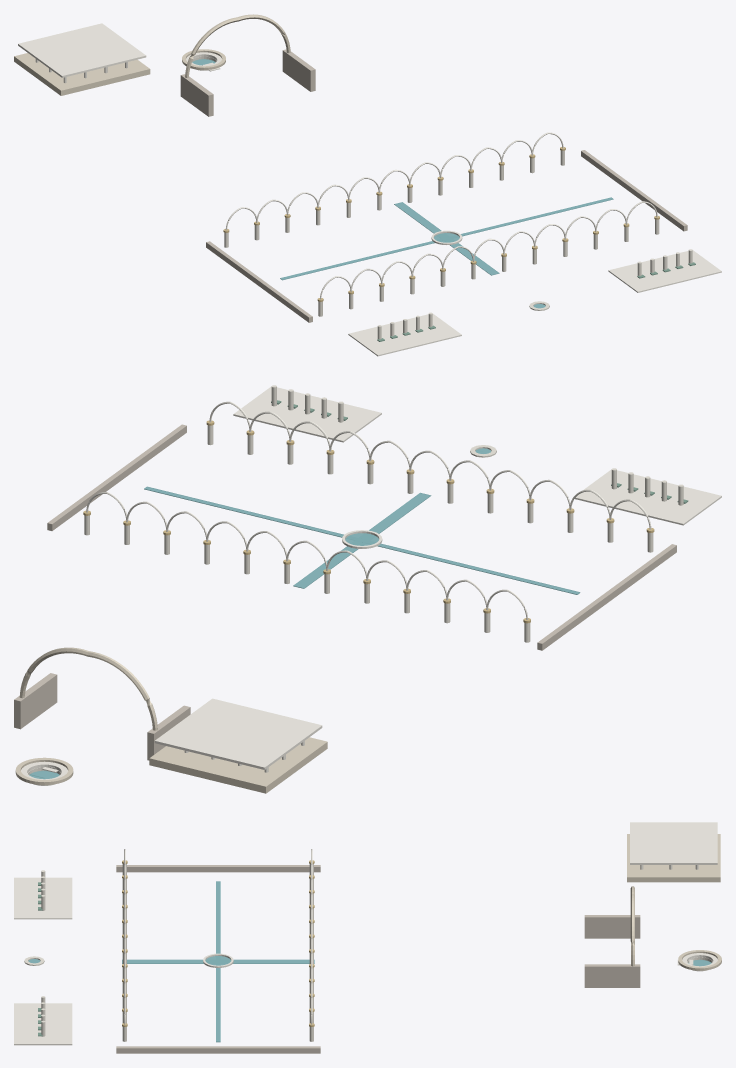
Rendered from 01_courts_water.glb.
3 views of the same model, one above another, from view 1: azimuth 30°, elevation 25°; view 2: azimuth 150°, elevation 25°; view 3: azimuth 270°, elevation 25° (orthographic). The views are drawn at different scales.
Parts seen in each view (by area): view 1: batch_pale, batch_aged, batch_ashlar, batch_marble, batch_water, batch_gold; view 2: batch_pale, batch_ashlar, batch_aged, batch_marble, batch_water, batch_gold; view 3: batch_pale, batch_aged, batch_ashlar, batch_water, batch_marble, batch_gold.
Boxes of the visible parts, x1,y1,x2,y2 form: batch_pale: (18,23,721,356); batch_aged: (180,49,687,322); batch_ashlar: (14,14,290,95); batch_marble: (192,56,692,339); batch_water: (192,59,613,308); batch_gold: (223,147,659,301); batch_pale: (21,386,721,779); batch_ashlar: (15,647,327,793); batch_aged: (14,424,676,760); batch_marble: (27,385,683,785); batch_water: (29,448,580,779); batch_gold: (83,420,654,623); batch_pale: (14,822,717,1045); batch_aged: (116,865,640,1053); batch_ashlar: (627,834,721,970); batch_water: (28,881,711,1042); batch_marble: (24,864,712,1041); batch_gold: (122,860,314,1026).
Size of the model in its own units: 148 by 27.17 by 242.
